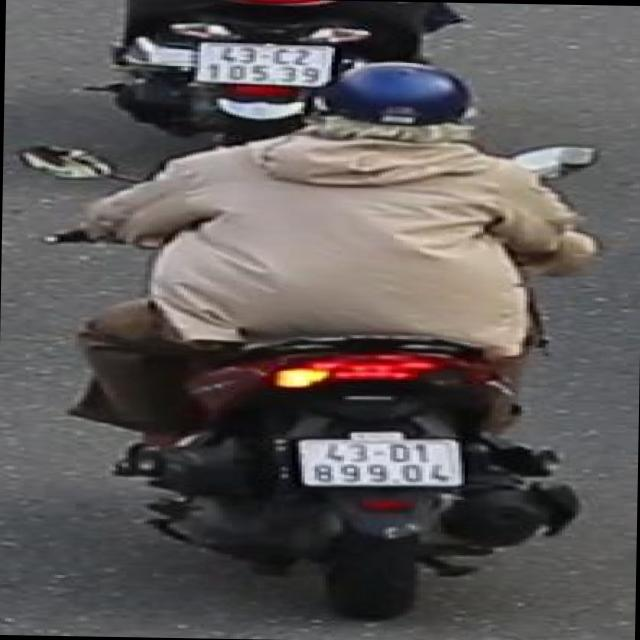LP: (287, 432, 468, 496)
helmet: (308, 58, 486, 156)
